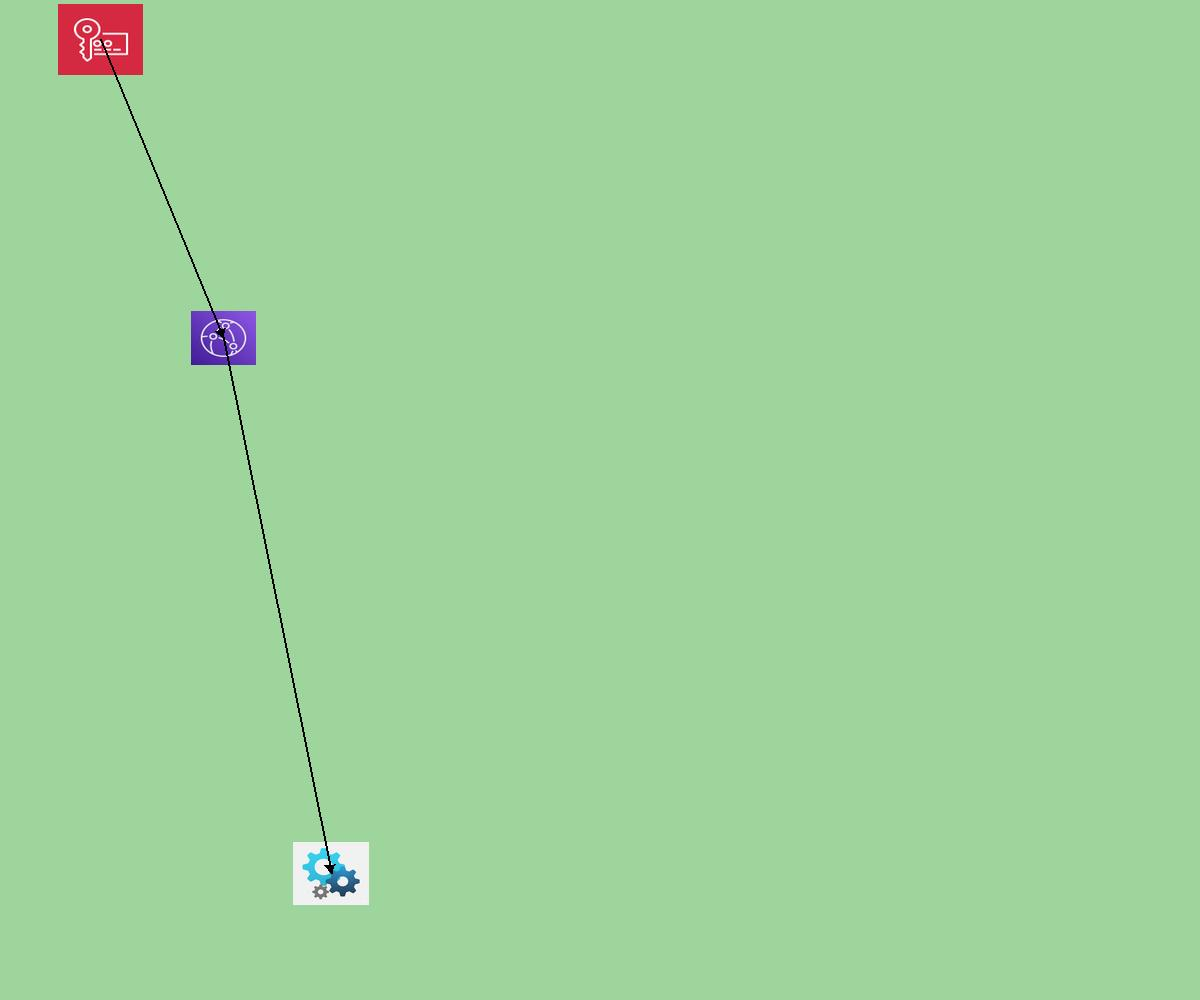AWS-CloudFront: (191, 311, 256, 365)
AWS-Key-Management-Service: (58, 4, 143, 75)
Azure_api: (293, 842, 369, 905)
